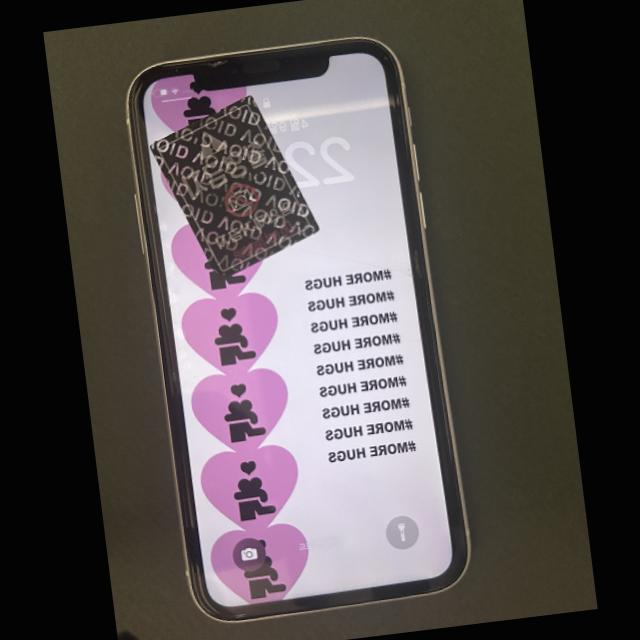lens: (229, 66, 237, 73)
phone: (125, 37, 470, 622)
sticker: (150, 94, 319, 277)
